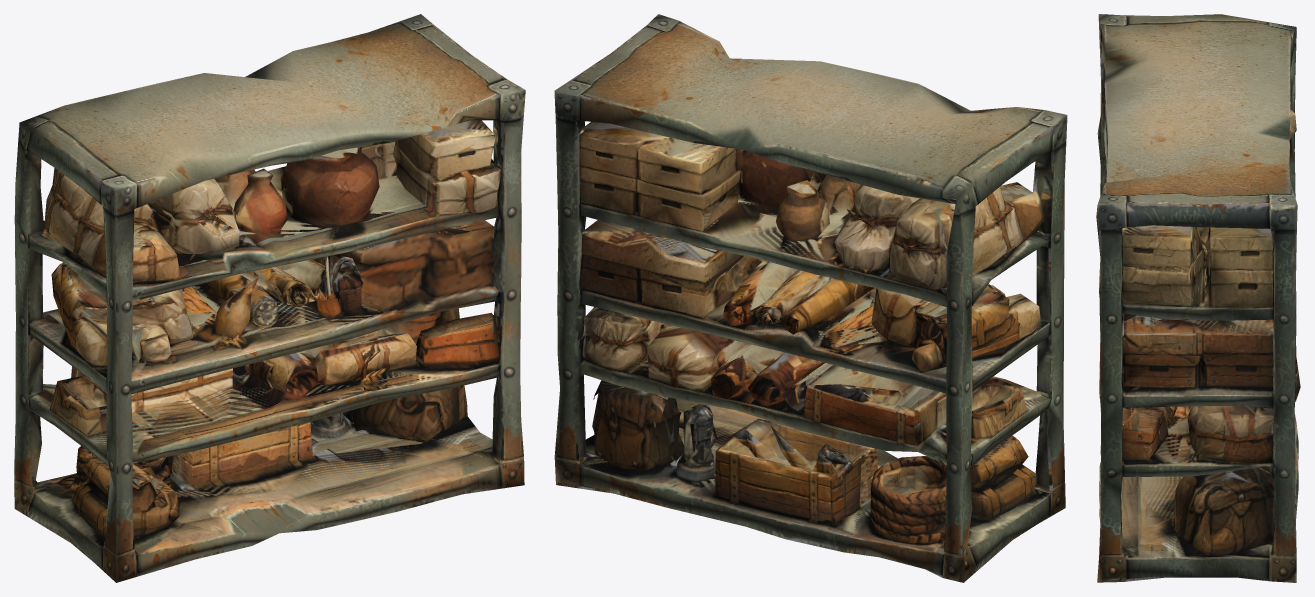
Rendered from EX_Camp_Shelf.fbx.
3 views of the same model, side by side, from view 1: azimuth 30°, elevation 25°; view 2: azimuth 150°, elevation 25°; view 3: azimuth 270°, elevation 25° (orthographic). The views are drawn at different scales.
Parts seen in each view (by area): view 1: texture_mapping; view 2: texture_mapping; view 3: texture_mapping.
Part boxes in pixels (x1,y1,x2,y2): texture_mapping: (14, 14, 525, 582); texture_mapping: (554, 14, 1067, 582); texture_mapping: (1096, 14, 1300, 582).
Size of the model in its own units: 0.9977 by 0.446 by 0.917.
Materials: 1 (1 with a texture image).
